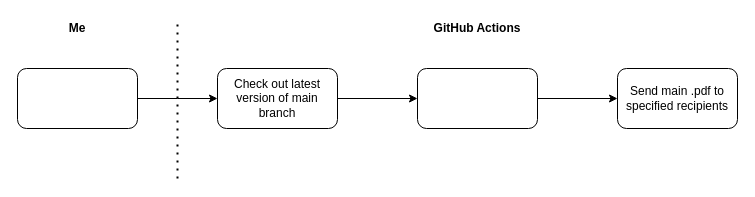
The diagram is 755 pixels wide and 197 high, and some of its shapes have lost their labels. Each missing label, with the centre of its shape:
Compile LaTeX project and product main.pdf: point (477, 98)
Push new content to main branch: point (77, 98)
